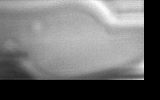cell: (26, 17, 48, 37), (1, 36, 19, 53)
